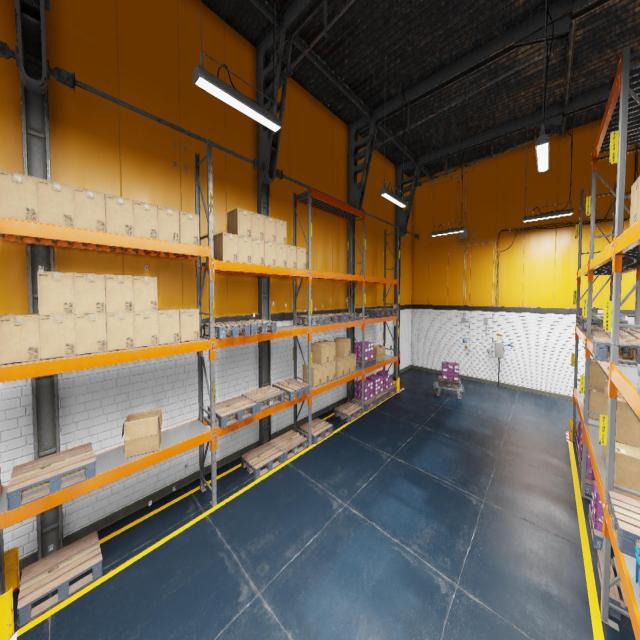box: (121, 408, 162, 458), (0, 169, 38, 222), (0, 314, 40, 364), (37, 178, 74, 227), (607, 394, 640, 447), (38, 314, 76, 360), (37, 271, 74, 315), (613, 441, 640, 501), (73, 186, 105, 232), (73, 273, 106, 314), (75, 313, 106, 355), (105, 193, 133, 236), (106, 312, 134, 351), (105, 274, 133, 312), (133, 200, 158, 239), (132, 276, 158, 312), (134, 311, 158, 348), (173, 308, 199, 342), (158, 206, 180, 242), (158, 309, 180, 344), (213, 232, 238, 262), (180, 210, 200, 246), (228, 208, 252, 238), (589, 358, 608, 389), (588, 387, 604, 420), (604, 387, 621, 415), (303, 362, 321, 387), (630, 176, 638, 226), (311, 342, 329, 364), (319, 340, 336, 362), (251, 212, 264, 240), (238, 235, 251, 263), (264, 215, 276, 242), (252, 238, 264, 265), (334, 338, 350, 358), (264, 241, 276, 266), (336, 356, 350, 375), (276, 243, 287, 267), (276, 219, 286, 244), (287, 245, 296, 268), (297, 247, 306, 269), (374, 345, 385, 361), (336, 356, 344, 378), (329, 360, 336, 381), (637, 175, 640, 220), (322, 363, 328, 384), (351, 353, 356, 373), (602, 445, 606, 468), (584, 394, 584, 402), (606, 446, 606, 469)
pallets: (17, 531, 102, 627), (6, 442, 96, 511), (597, 549, 628, 621), (608, 491, 640, 558), (242, 442, 284, 479), (208, 396, 256, 428), (592, 336, 640, 365), (269, 430, 307, 461), (242, 385, 284, 413), (588, 504, 612, 550), (592, 331, 640, 353), (299, 418, 333, 444), (272, 378, 310, 401), (203, 321, 250, 339), (234, 319, 276, 335), (579, 317, 628, 330), (334, 402, 363, 422), (577, 315, 620, 327), (581, 463, 595, 496), (352, 396, 378, 412), (594, 326, 640, 335), (296, 315, 328, 326), (438, 375, 461, 389), (315, 314, 344, 324), (334, 312, 360, 321), (356, 358, 376, 368), (373, 391, 388, 404), (364, 309, 388, 316), (382, 386, 397, 397), (375, 308, 397, 314), (637, 364, 640, 396), (578, 448, 582, 472), (575, 435, 579, 456)
